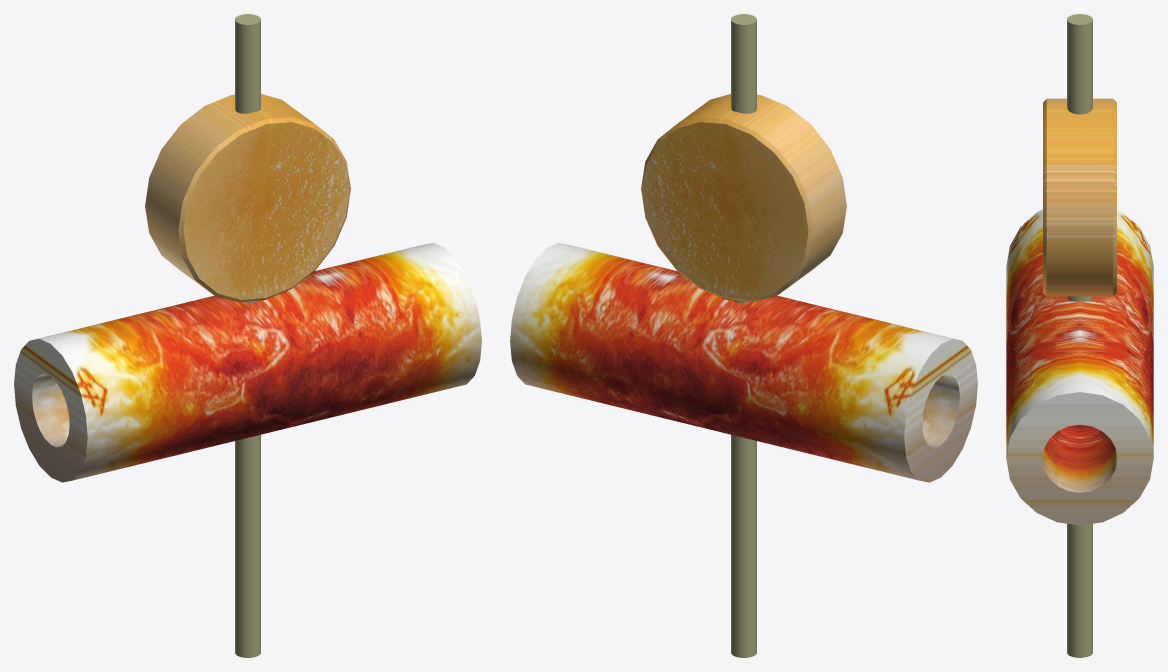
The model's file is OdenDaikonTikuwa.fbx.
The picture shows the model from 3 angles, left to right: view 1: azimuth 30°, elevation 25°; view 2: azimuth 150°, elevation 25°; view 3: azimuth 270°, elevation 25°; orthographic projection.
Visible parts, largest first — view 1: polySurface123; view 2: polySurface123; view 3: polySurface123.
Boxes of the visible parts, bbox=[...] form: polySurface123: bbox=[14, 14, 481, 657]; polySurface123: bbox=[510, 14, 977, 657]; polySurface123: bbox=[1006, 14, 1153, 657].
Size of the model in its own units: 4.57 by 7.01 by 1.48.
